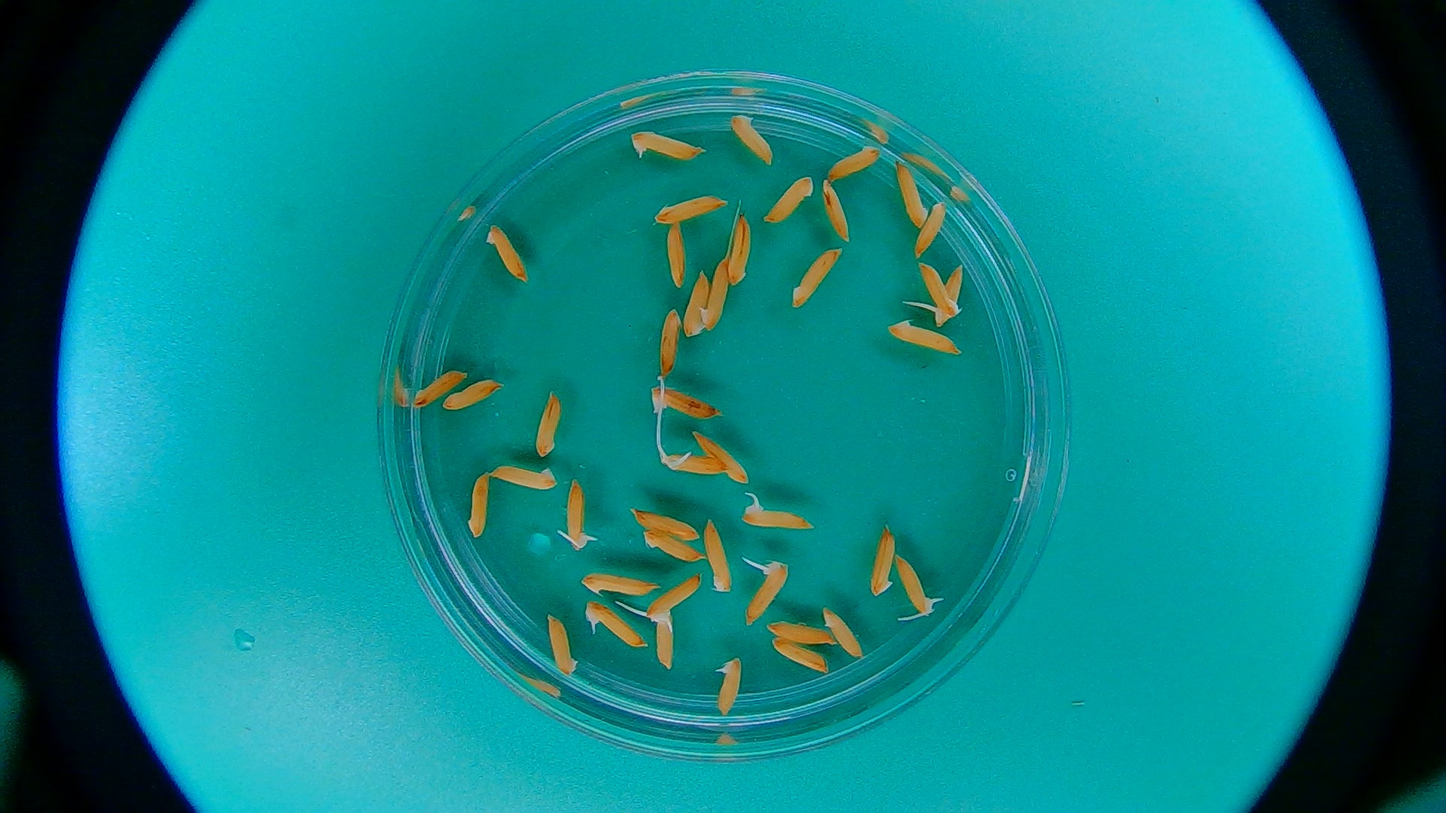no: (792, 248, 840, 311), (703, 518, 738, 599), (695, 430, 748, 482), (887, 318, 961, 355), (761, 175, 816, 224), (483, 224, 529, 282), (698, 252, 731, 331), (652, 193, 731, 224), (893, 162, 929, 228), (729, 114, 776, 164), (649, 384, 717, 418), (918, 259, 956, 318), (628, 507, 697, 538), (546, 611, 579, 674), (580, 572, 659, 598), (822, 607, 862, 657), (413, 369, 467, 406), (533, 391, 563, 456), (828, 144, 882, 180), (821, 180, 853, 240), (652, 607, 682, 671), (642, 529, 700, 562), (490, 464, 558, 492), (868, 525, 895, 595), (444, 381, 503, 413), (771, 638, 825, 671), (465, 472, 490, 542), (765, 620, 834, 644), (917, 202, 947, 257), (728, 218, 751, 285), (659, 308, 682, 374), (684, 272, 707, 337), (665, 224, 688, 288)
yes: (742, 562, 789, 625), (584, 601, 645, 647), (630, 130, 714, 163), (895, 556, 932, 621), (648, 577, 698, 620), (712, 655, 742, 723), (738, 505, 810, 531), (936, 265, 967, 324), (662, 449, 726, 477), (563, 478, 587, 550)
